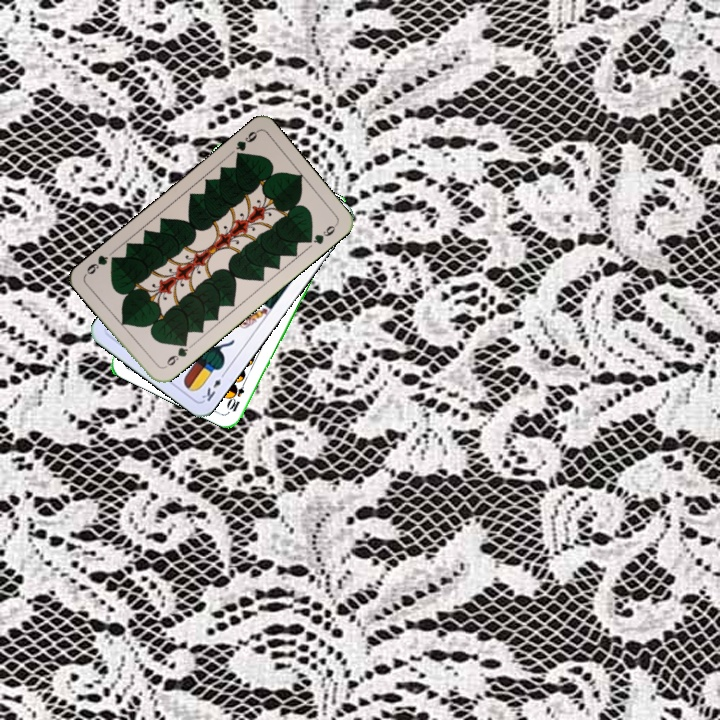E10: (224, 375, 249, 414)
EK: (198, 367, 229, 404)
G9: (159, 337, 191, 371), (231, 126, 261, 162)
